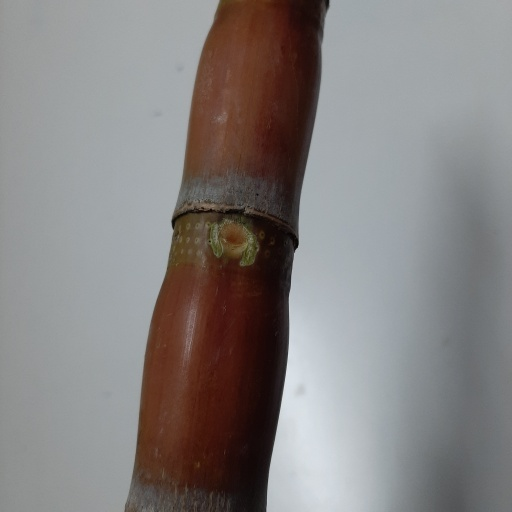Damage_Bud: (215, 220, 249, 252)
